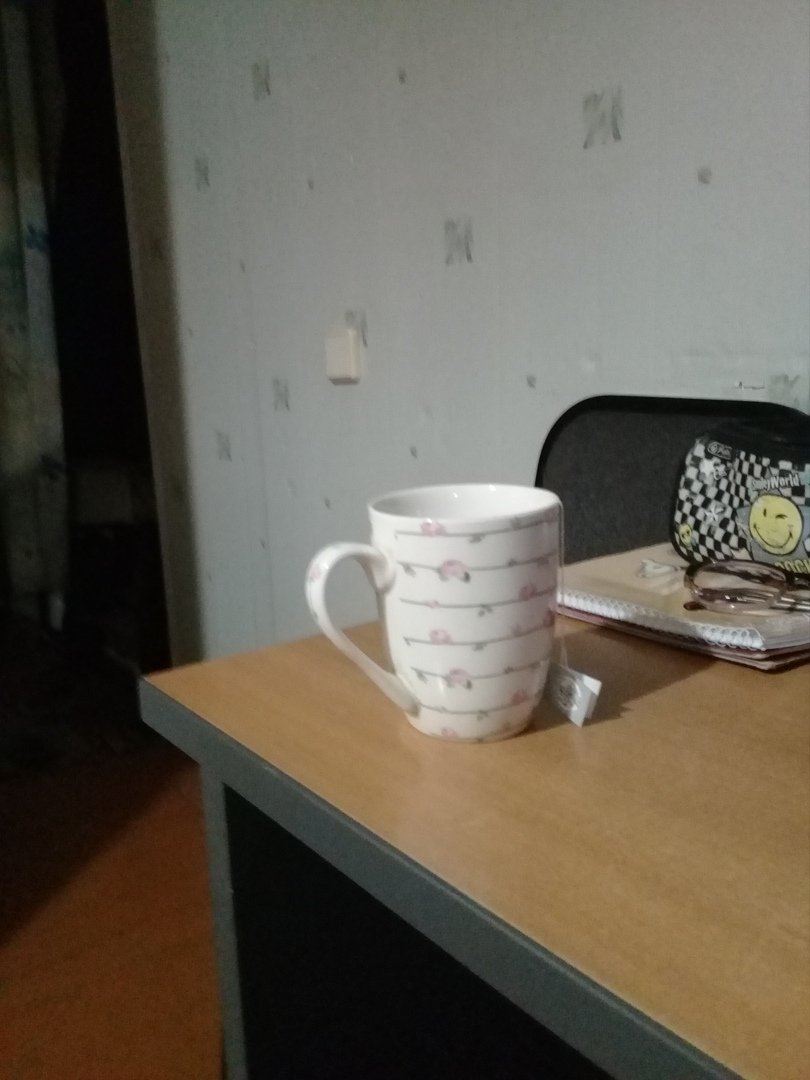cup: (292, 472, 579, 755)
